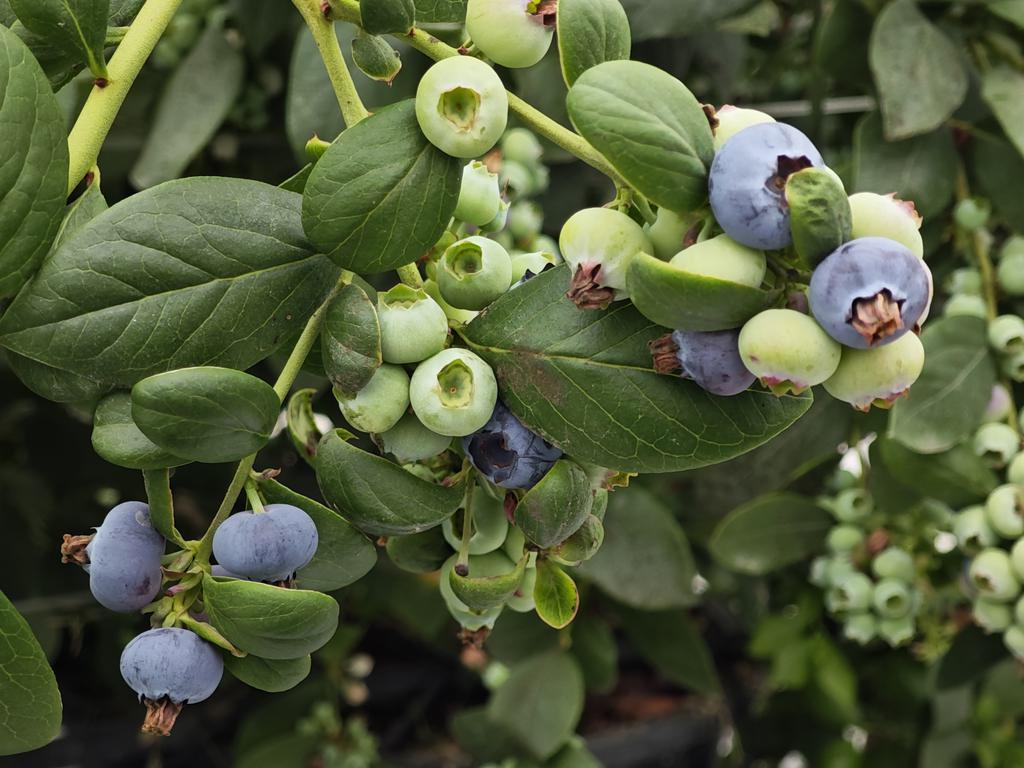RipeBlueBerry: (809, 239, 931, 347), (120, 626, 226, 738), (60, 499, 163, 612), (711, 123, 792, 248), (216, 502, 318, 586), (478, 416, 547, 487)
UnripeBlueBerry: (417, 54, 509, 156), (740, 309, 842, 397), (560, 206, 650, 304), (411, 349, 498, 436), (374, 282, 448, 364), (441, 236, 511, 309)
